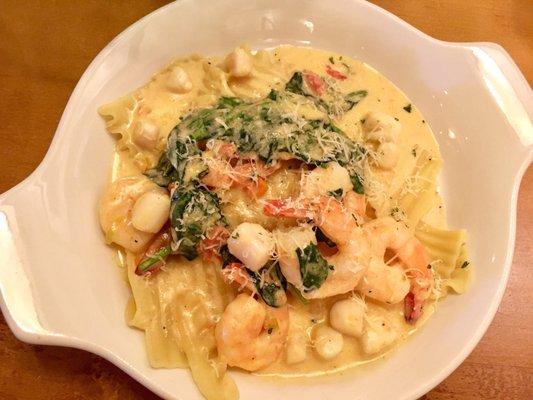curry: (5, 0, 532, 400)
sandwich: (92, 35, 512, 399)
